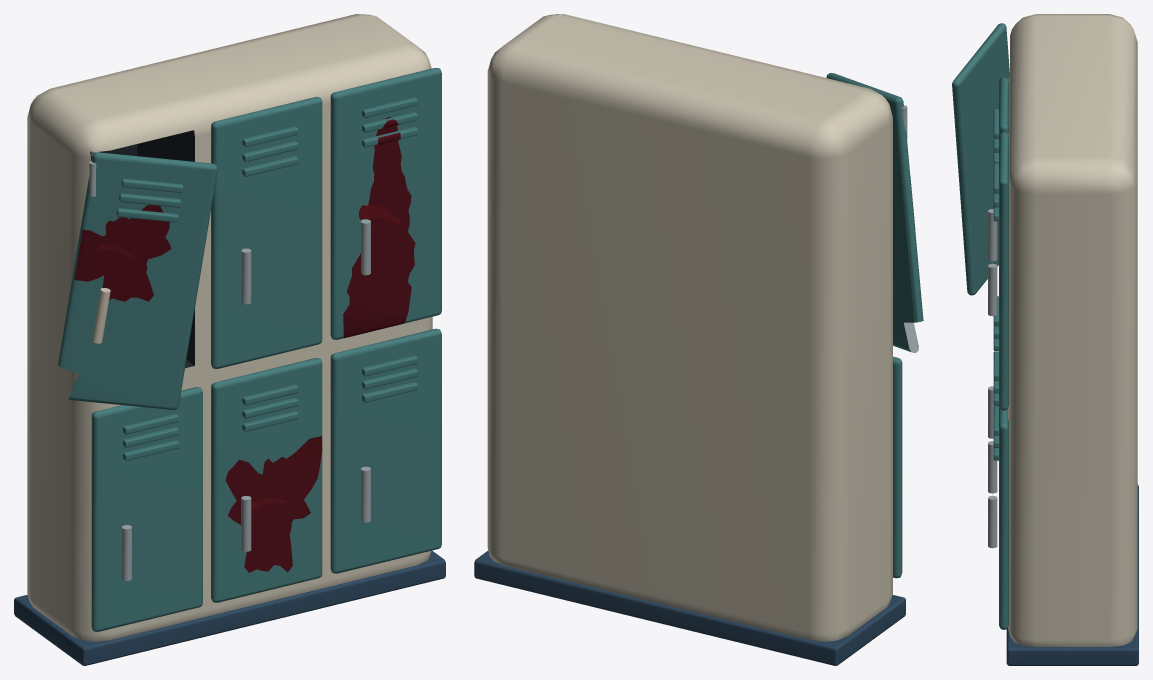
File: locker_bank.glb
The picture shows the model from 3 angles, left to right: view 1: azimuth 30°, elevation 25°; view 2: azimuth 150°, elevation 25°; view 3: azimuth 270°, elevation 25°; orthographic projection. The views are drawn at different scales.
Visible parts, largest first — view 1: Outbreak_11_standard_lockers_Static; view 2: Outbreak_11_standard_lockers_Static; view 3: Outbreak_11_standard_lockers_Static.
Boxes of the visible parts, x1=… form: Outbreak_11_standard_lockers_Static: x1=14, y1=14, x2=445, y2=665; Outbreak_11_standard_lockers_Static: x1=474, y1=14, x2=923, y2=665; Outbreak_11_standard_lockers_Static: x1=952, y1=14, x2=1138, y2=665.
Bounding box in the file's own units: 1.48 × 1.95 × 0.6645.
